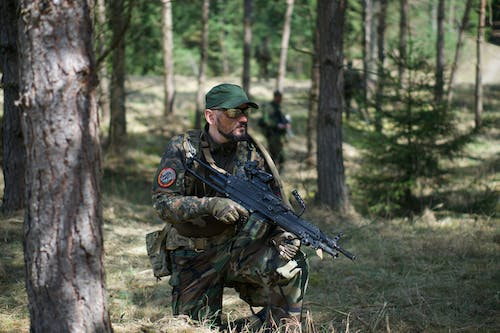gun: (181, 154, 359, 263)
